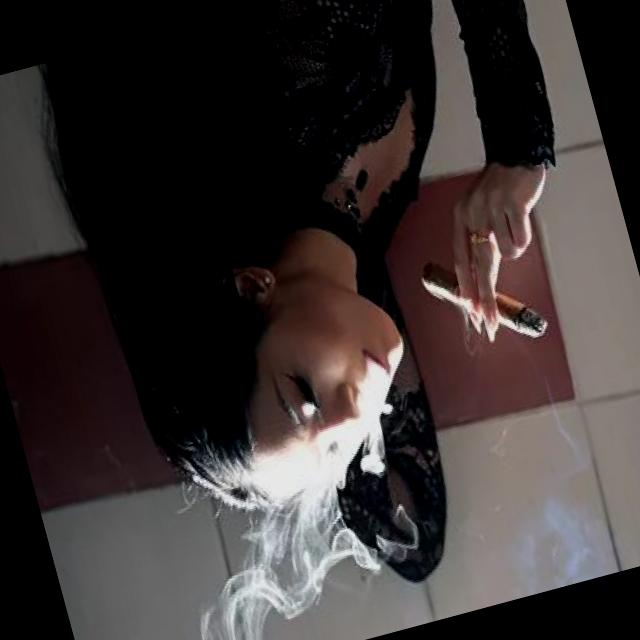cigarette: (408, 227, 559, 366)
